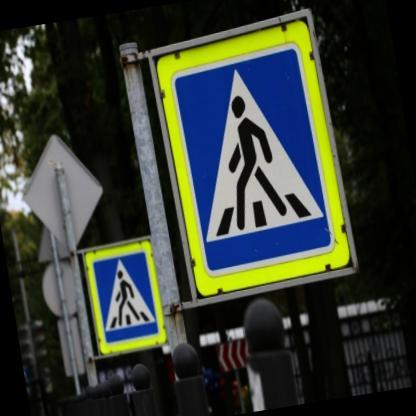road_sign: (155, 21, 351, 296), (83, 239, 165, 354)
